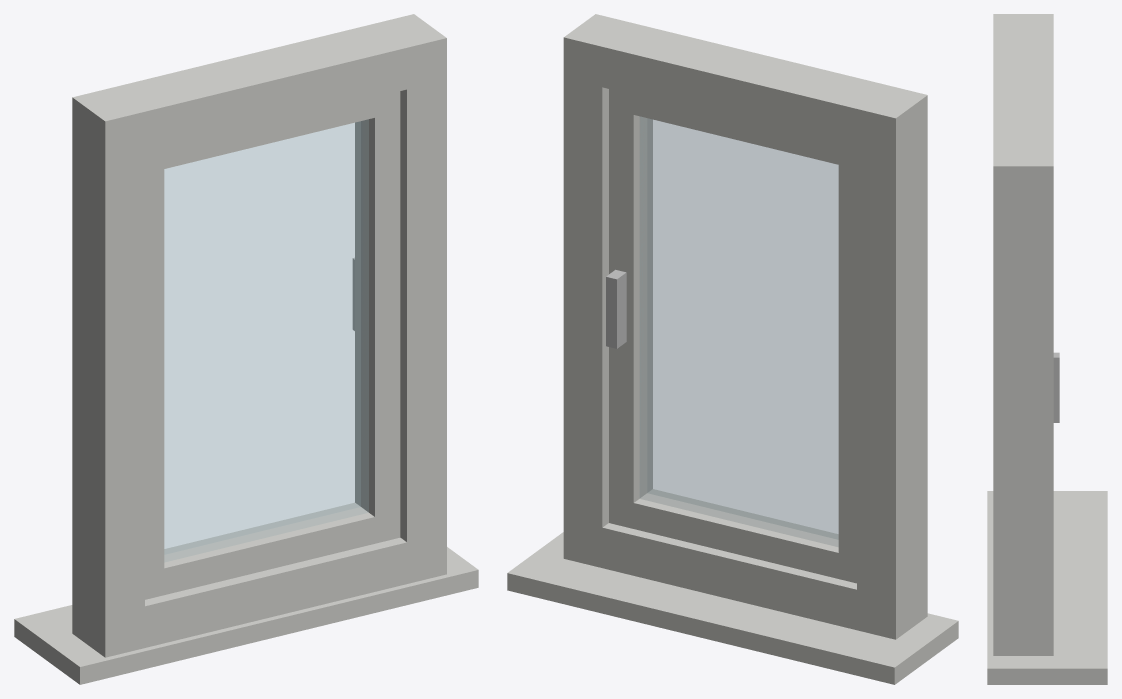
Rendered from opening.window.small.glb.
3 renders of one model, left to right at view 1: azimuth 30°, elevation 25°; view 2: azimuth 150°, elevation 25°; view 3: azimuth 270°, elevation 25°, orthographic. The views are drawn at different scales.
Parts seen in each view (by area): view 1: frame__paint_white, glazing__glass; view 2: frame__paint_white, glazing__glass, ironmongery__steel_stainless; view 3: frame__paint_white, ironmongery__steel_stainless.
Part boxes in pixels (x1,y1,x2,y2): frame__paint_white: [14, 14, 478, 684]; glazing__glass: [164, 119, 368, 561]; frame__paint_white: [507, 14, 958, 684]; glazing__glass: [640, 117, 838, 546]; ironmongery__steel_stainless: [606, 269, 626, 348]; frame__paint_white: [987, 14, 1107, 684]; ironmongery__steel_stainless: [1053, 352, 1059, 422].
Size of the model in its own units: 0.7 by 0.93 by 0.2.
